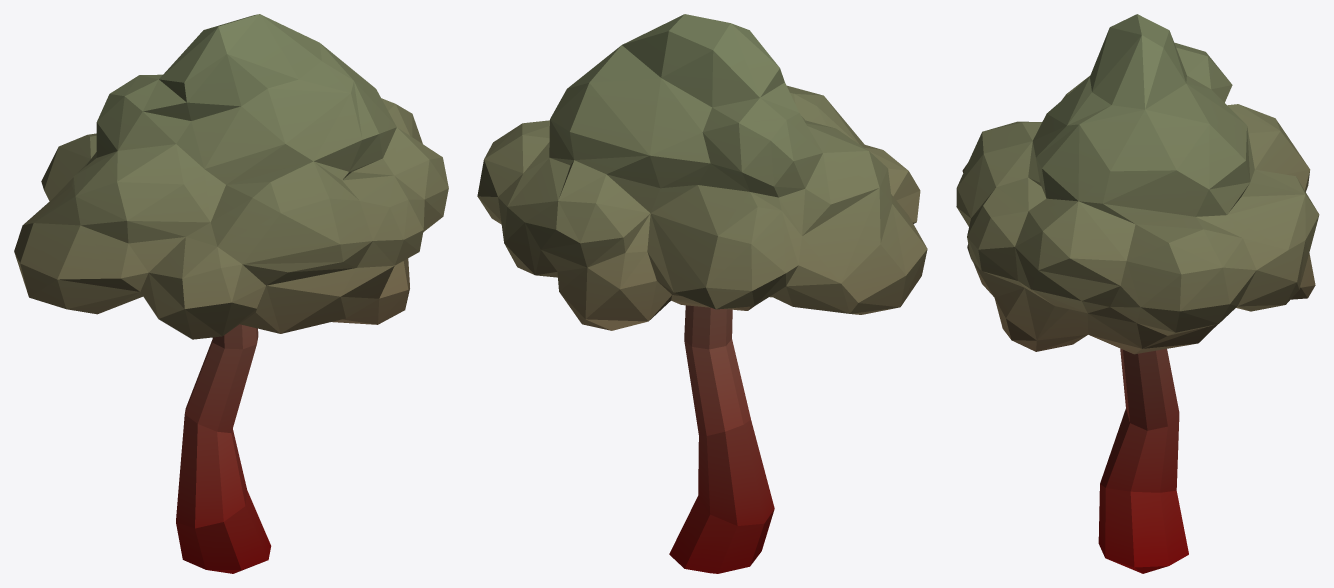
File: synty-tree-round-01.gltf
3 views of the same model, side by side, from view 1: azimuth 30°, elevation 25°; view 2: azimuth 150°, elevation 25°; view 3: azimuth 270°, elevation 25° (orthographic).
Visible parts, largest first — view 1: SM_Tree_Round_01; view 2: SM_Tree_Round_01; view 3: SM_Tree_Round_01.
Boxes of the visible parts, left/top/right/bottom form: SM_Tree_Round_01: left=14, top=14, right=448, bottom=573; SM_Tree_Round_01: left=477, top=14, right=927, bottom=573; SM_Tree_Round_01: left=956, top=14, right=1319, bottom=573.
Bounding box in the file's own units: 2.92 × 3.76 × 2.24.
Materials: 1 (1 with a texture image).
